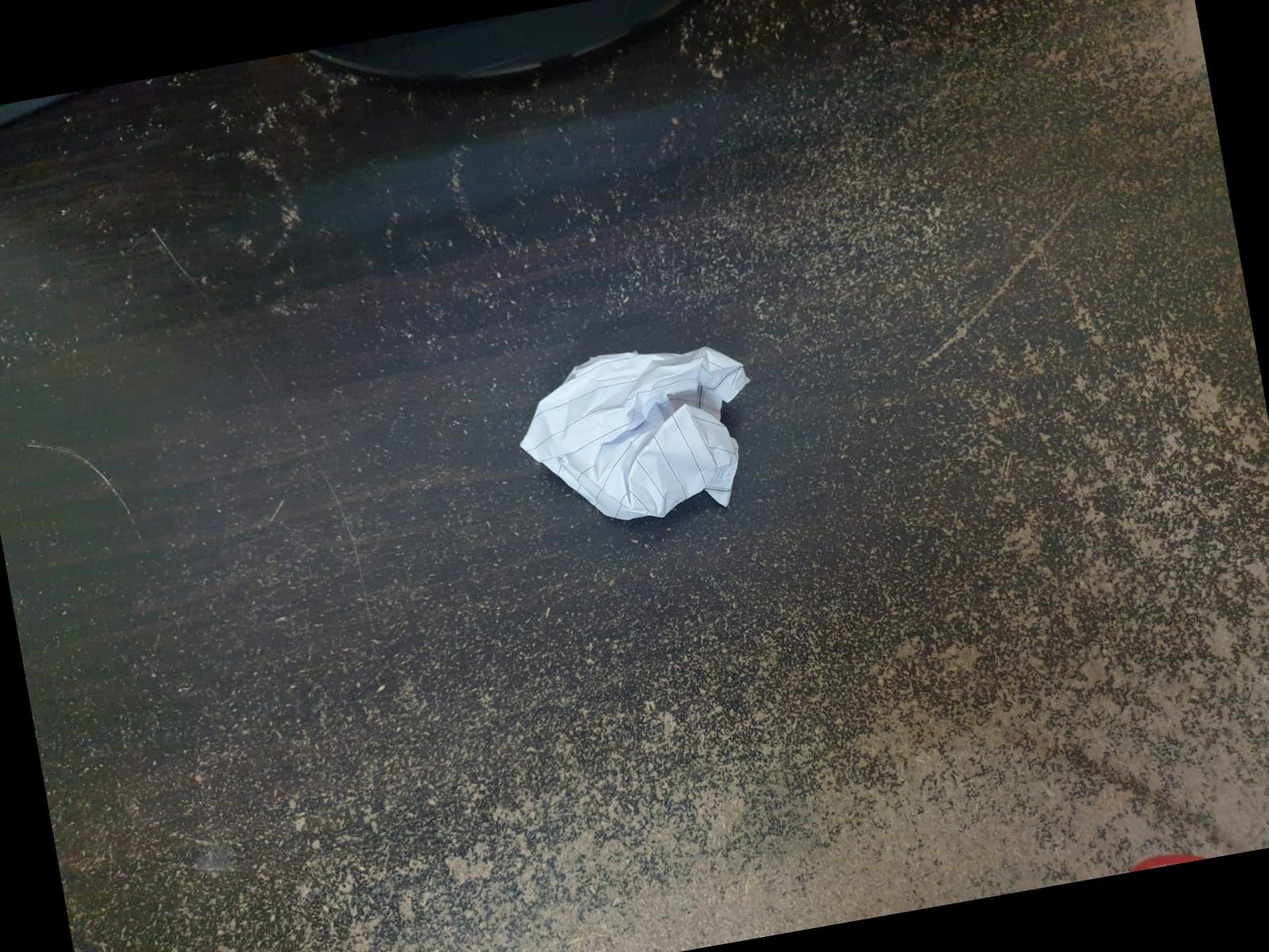Kertas: (519, 332, 750, 539)
